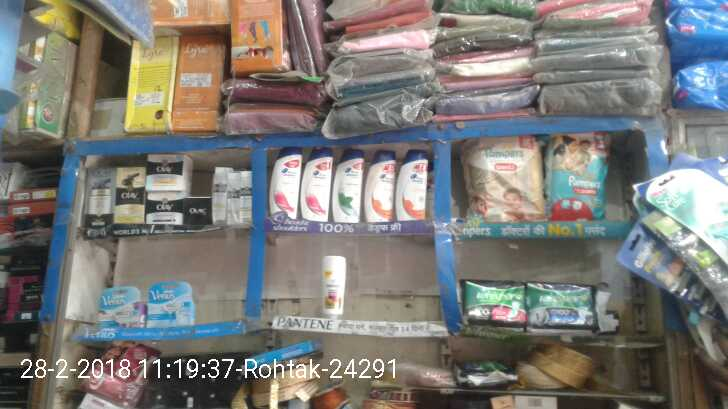venus: (142, 280, 199, 327), (101, 287, 141, 327)
